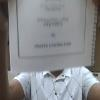notebook: (7, 0, 97, 73)
